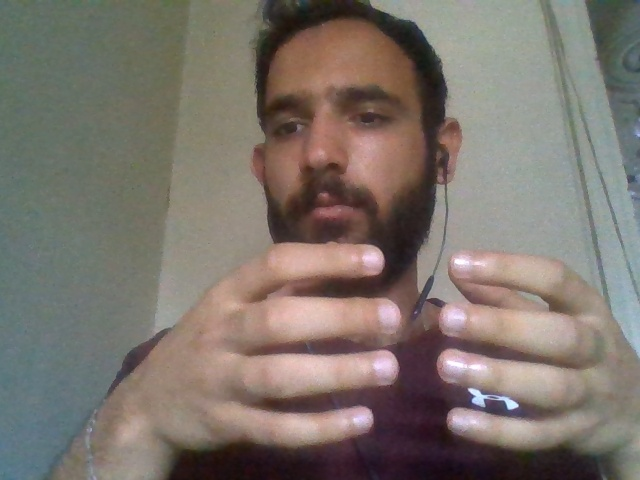Story: (193, 217, 600, 480)
